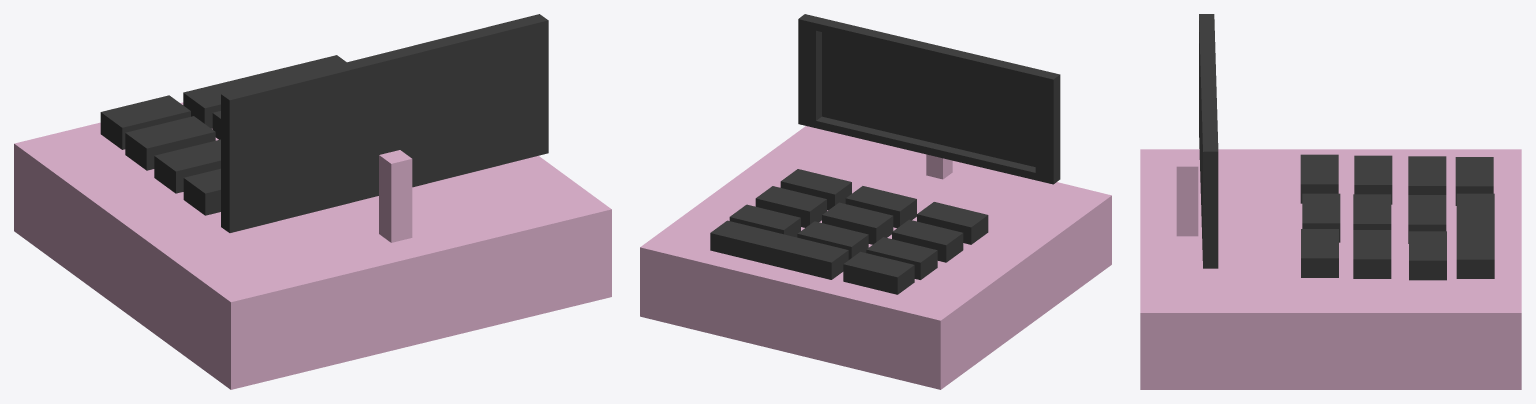
File: casse.glb
The picture shows the model from 3 angles, left to right: view 1: azimuth 30°, elevation 25°; view 2: azimuth 150°, elevation 25°; view 3: azimuth 270°, elevation 25°; orthographic projection. The views are drawn at different scales.
Parts seen in each view (by area): view 1: Куб.001, monitor, Куб.004, Куб.011, Куб.012, Куб.013, Куб.008, Куб.005; view 2: Куб.001, monitor, Куб.013, Куб.012, Куб.005, Куб.007, Куб.008, Куб.006, Куб, Куб.002, Куб.011, Куб.010 (+2 smaller); view 3: Куб.001, monitor, Куб.013, Куб.006, Куб.009, Куб.002, Куб.004, Куб.005, Куб.008, Куб.011, Куб.012, Куб.010 (+2 smaller).
Part boxes in pixels (x1,y1,x2,y2): Куб.001: (14, 102, 611, 389); monitor: (221, 14, 548, 232); Куб.004: (379, 150, 412, 242); Куб.011: (125, 116, 215, 170); Куб.012: (100, 95, 190, 149); Куб.013: (183, 55, 346, 128); Куб.008: (154, 139, 220, 193); Куб.005: (183, 168, 220, 215); Куб.001: (640, 126, 1111, 389); monitor: (798, 14, 1060, 184); Куб.013: (710, 220, 848, 279); Куб.012: (843, 251, 914, 294); Куб.005: (917, 202, 988, 244); Куб.007: (822, 202, 893, 244); Куб.008: (892, 219, 963, 262); Куб.006: (755, 186, 826, 227); Куб: (845, 186, 916, 227); Куб.002: (780, 169, 851, 210); Куб.011: (866, 237, 937, 279); Куб.010: (797, 221, 868, 259); Куб.001: (1140, 149, 1521, 389); monitor: (1199, 14, 1218, 268); Куб.013: (1456, 193, 1494, 278); Куб.006: (1353, 230, 1391, 278); Куб.009: (1409, 231, 1446, 280); Куб.002: (1301, 229, 1338, 277); Куб.004: (1176, 157, 1198, 236); Куб.005: (1300, 154, 1338, 203); Куб.008: (1354, 155, 1392, 204); Куб.011: (1408, 156, 1446, 194); Куб.012: (1455, 157, 1493, 205); Куб.010: (1408, 195, 1446, 243).
Size of the model in its own units: 2.15 by 1.39 by 2.12.
